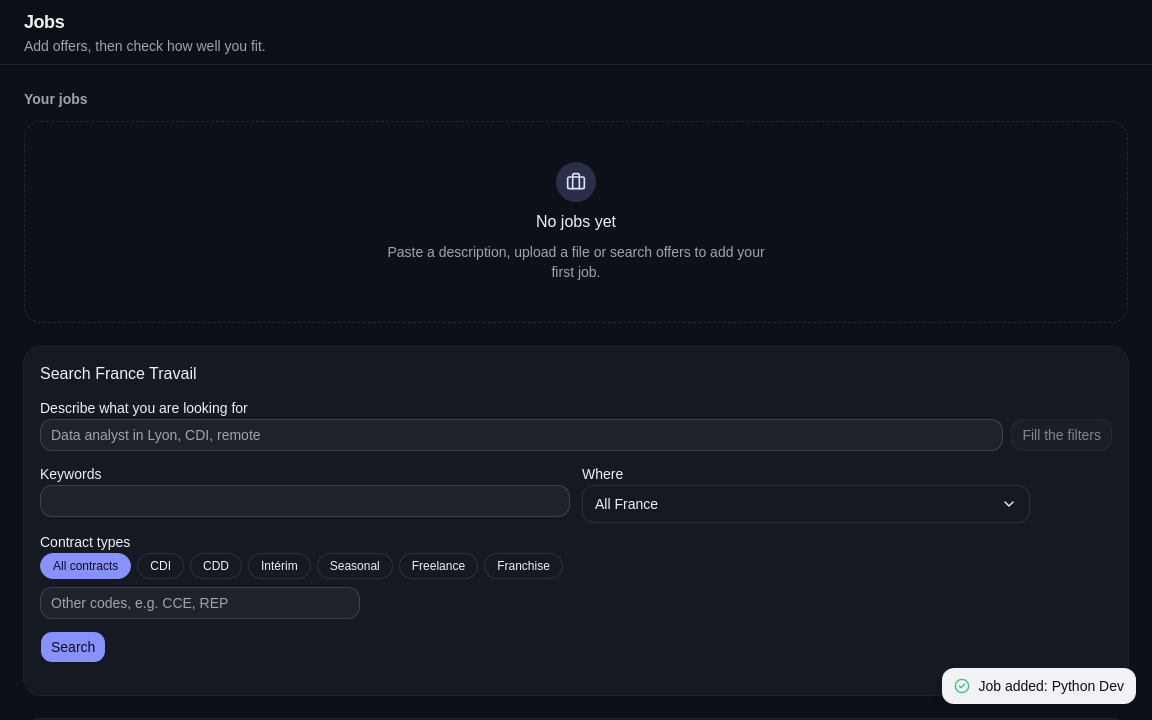
Test: search results can be added by external id; a search error shows message + request id
Type "python" into the field labelled "Keywords" at (305, 501), box [40, 485, 570, 517]
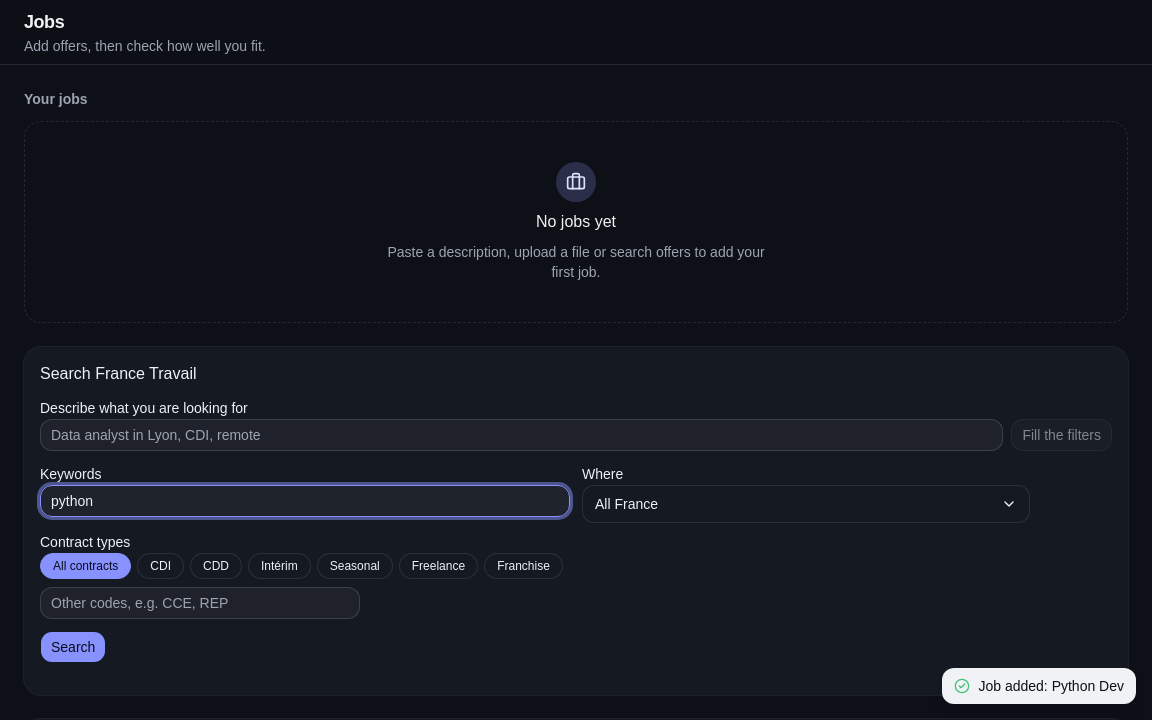
Click the button "Search" at (73, 647), box [40, 631, 106, 663]
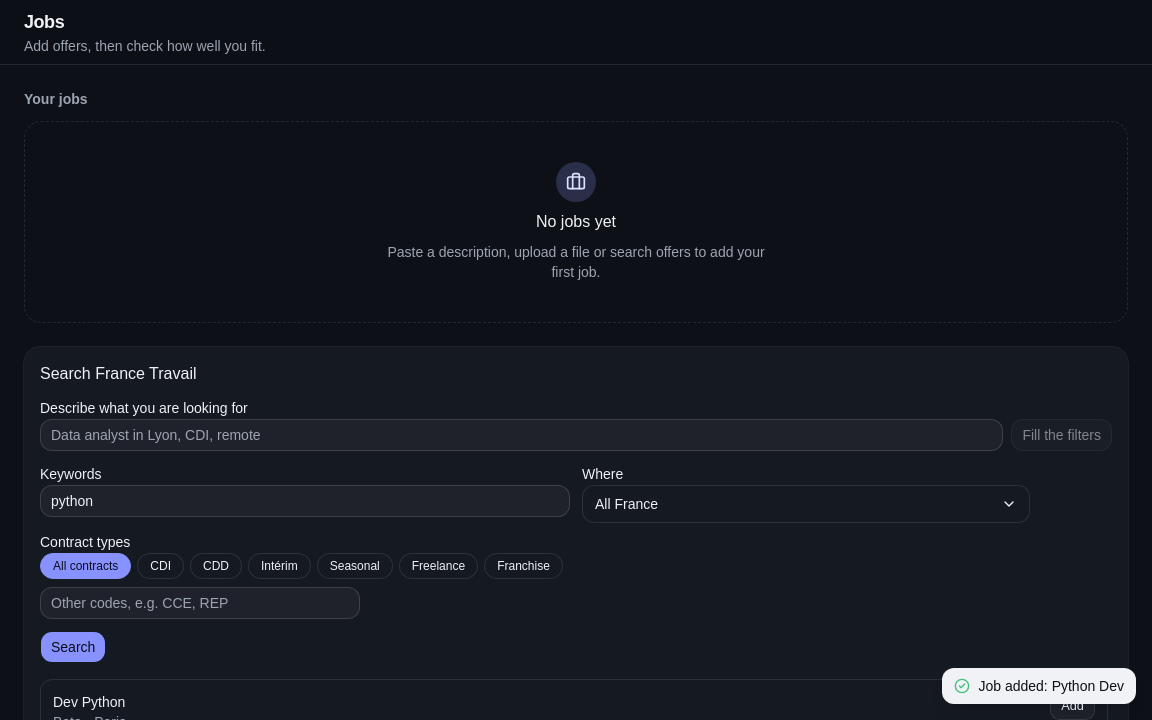
Check: the text "Dev Python" is shown, box [53, 692, 126, 712]
Click the button with aria-label "Add Dev Python" at (1073, 706), box [1050, 692, 1095, 719]
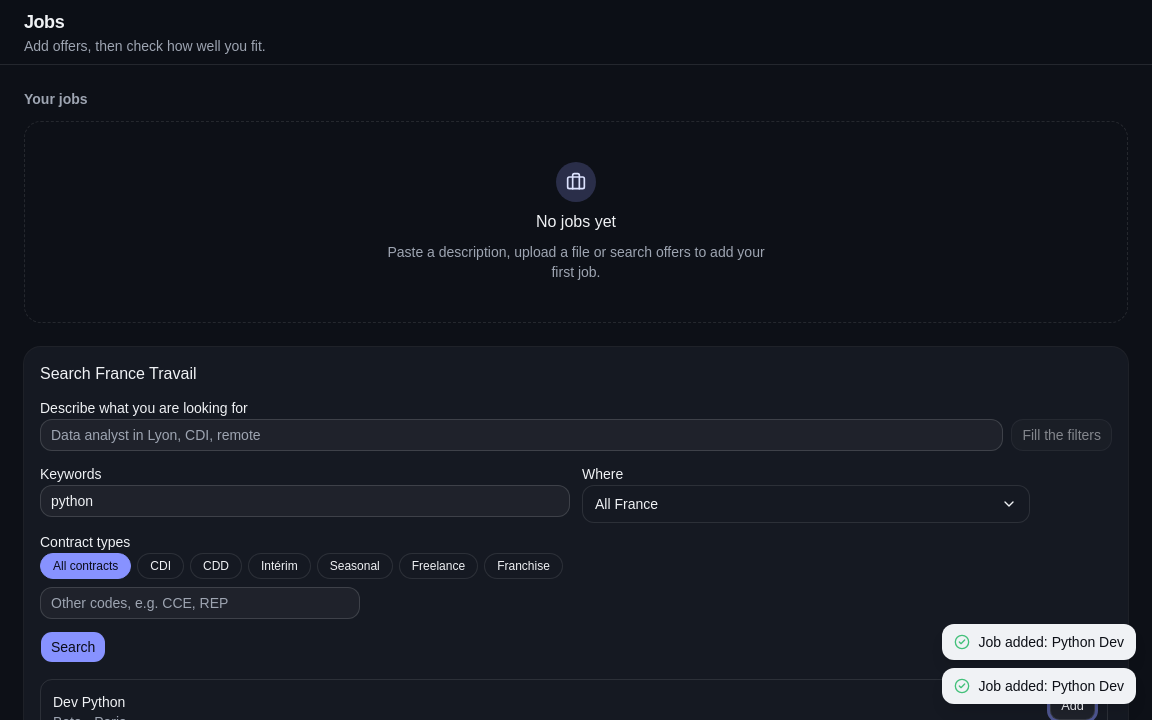
Click the button "All France" at (627, 504), box [582, 485, 1030, 523]
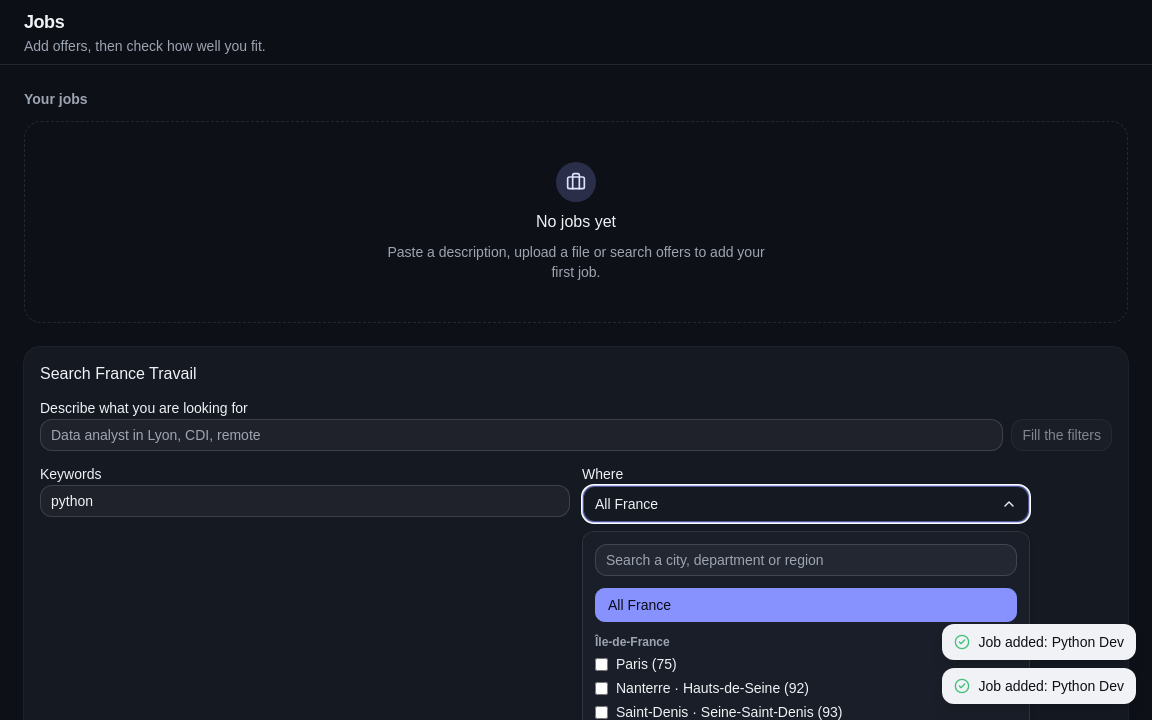
Click the checkbox labelled "Paris (75)" at (602, 664), box [595, 658, 608, 670]
(page scrolled)
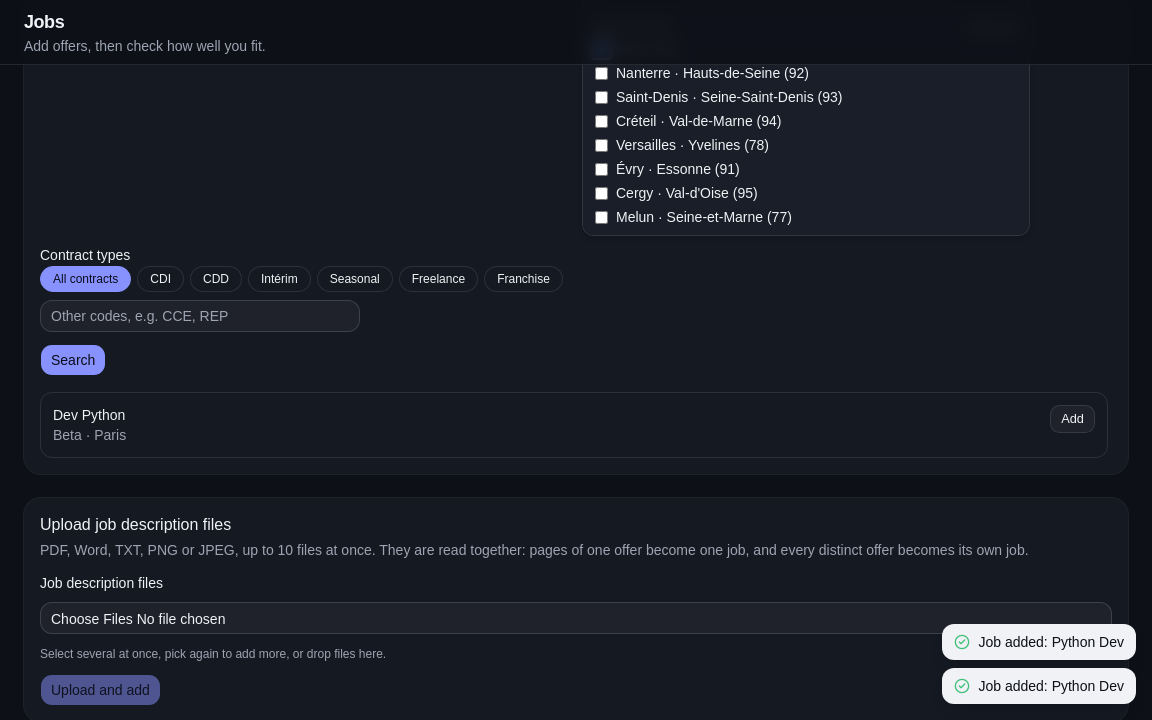
Click the button "Search" at (73, 360), box [40, 344, 106, 376]
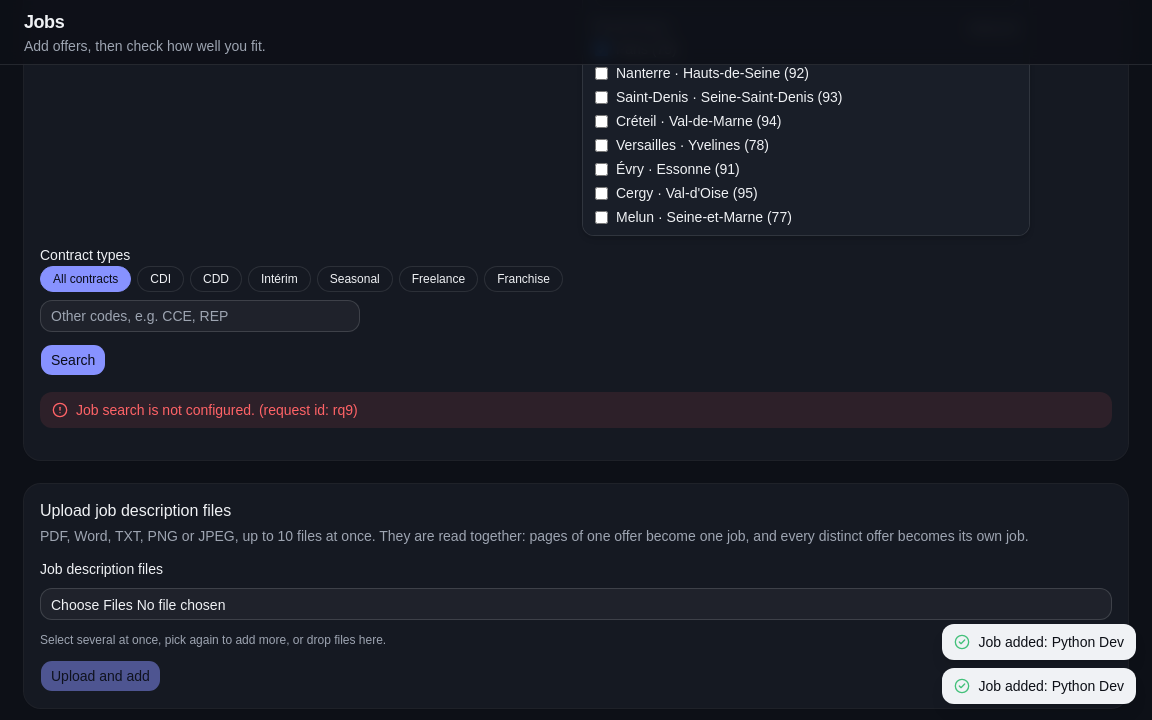
Check: the text "Job search is not configured. (request id: rq9)" is shown, box [40, 392, 1112, 428]
